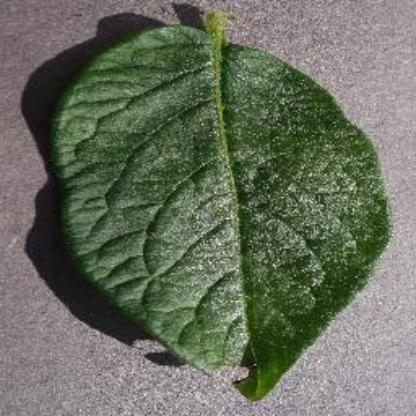Healthy-plant: (43, 8, 396, 406)
